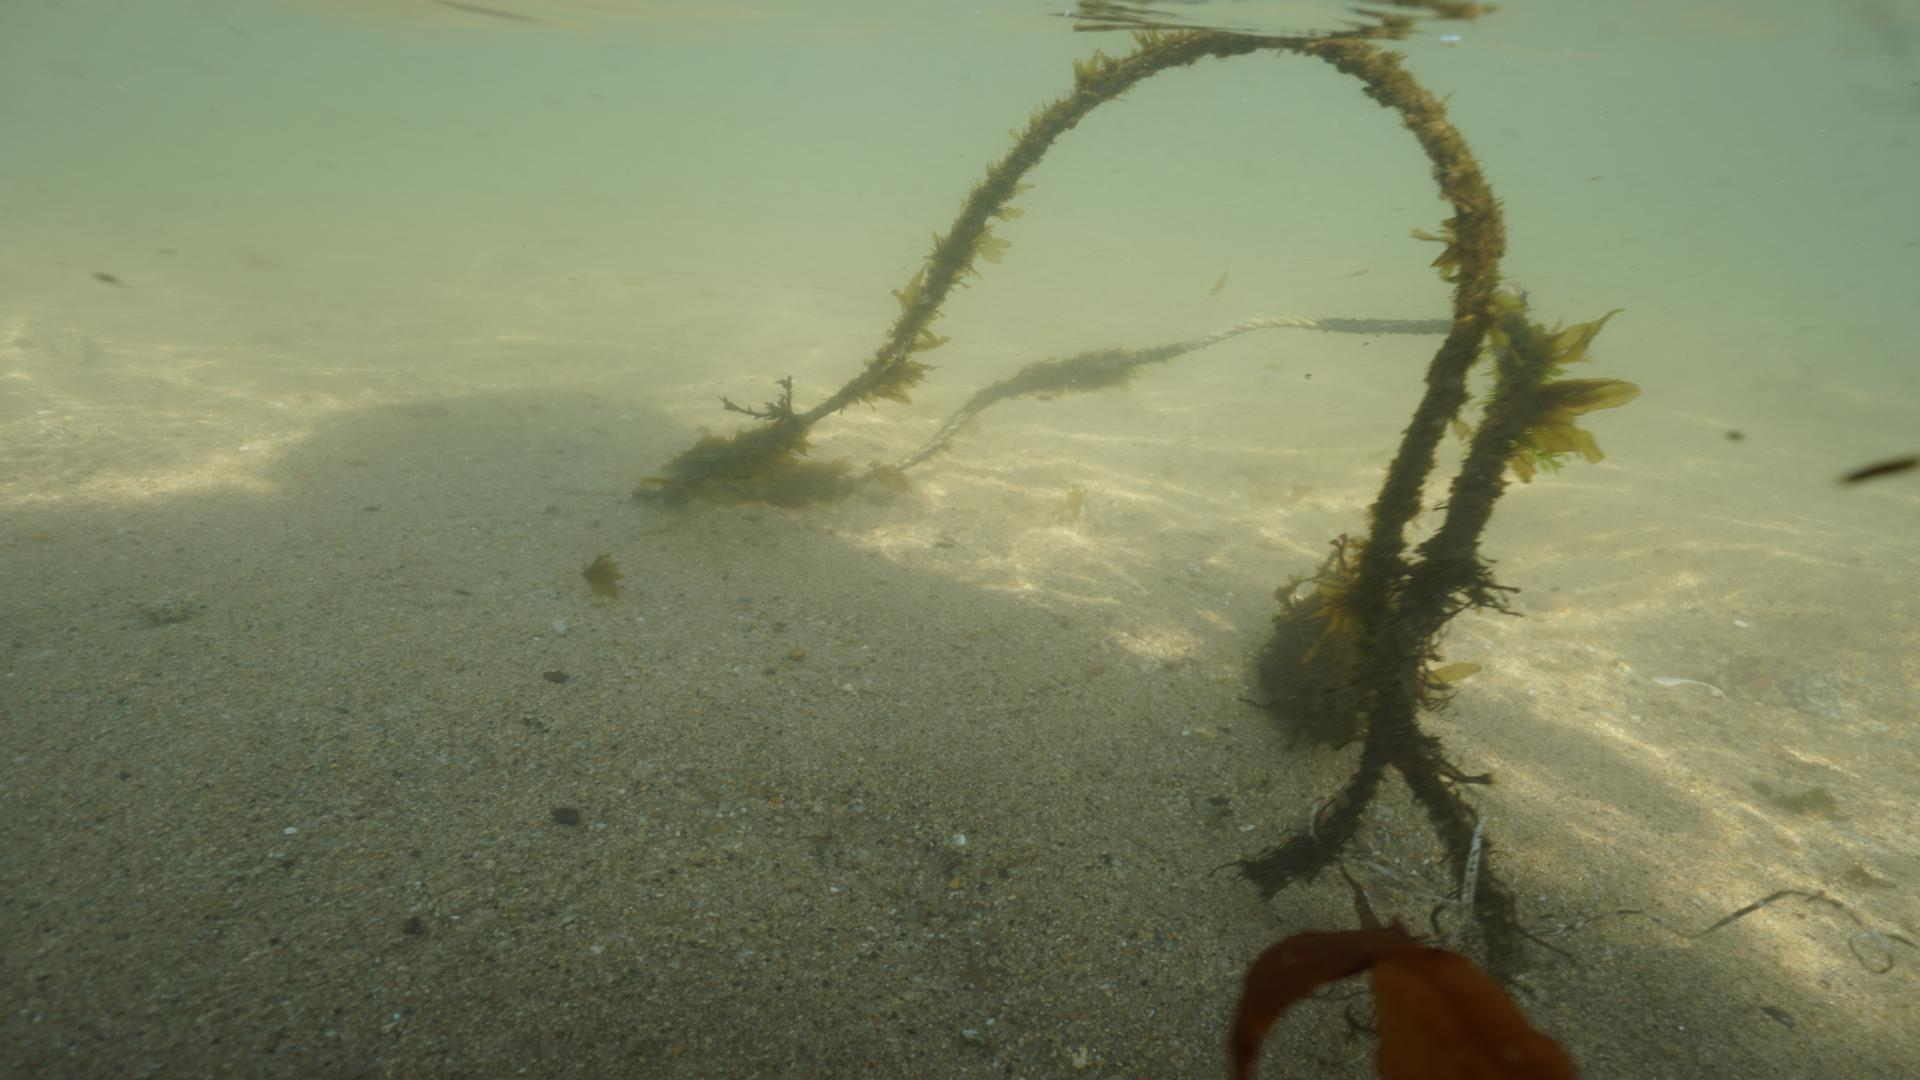bundle of ropes: (814, 22, 1552, 955)
